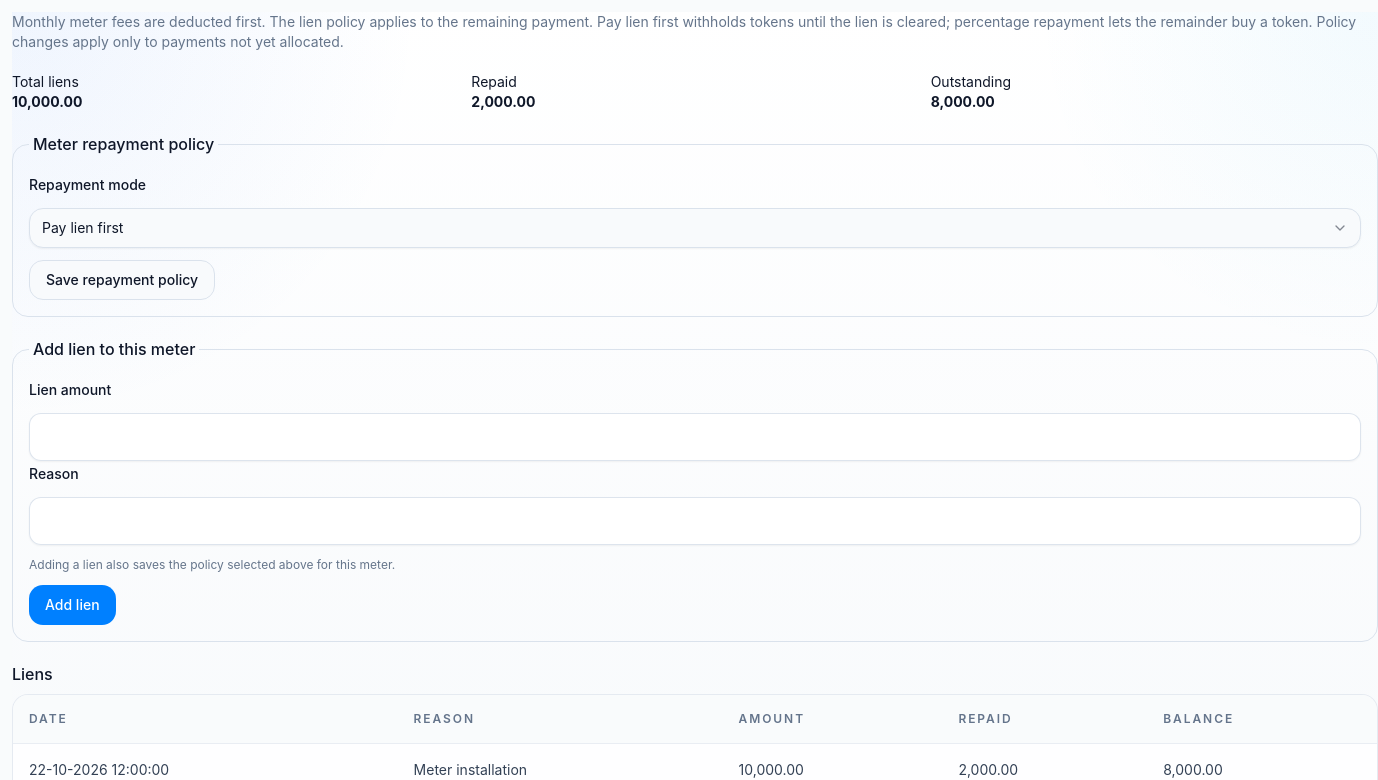
Test case: searches repayment modes and saves a configurable percentage policy without creating another lien
This screenshot has width=1378, height=780.
Click the dropdown named "Repayment mode".
click(83, 228)  # box [29,208,1361,248]
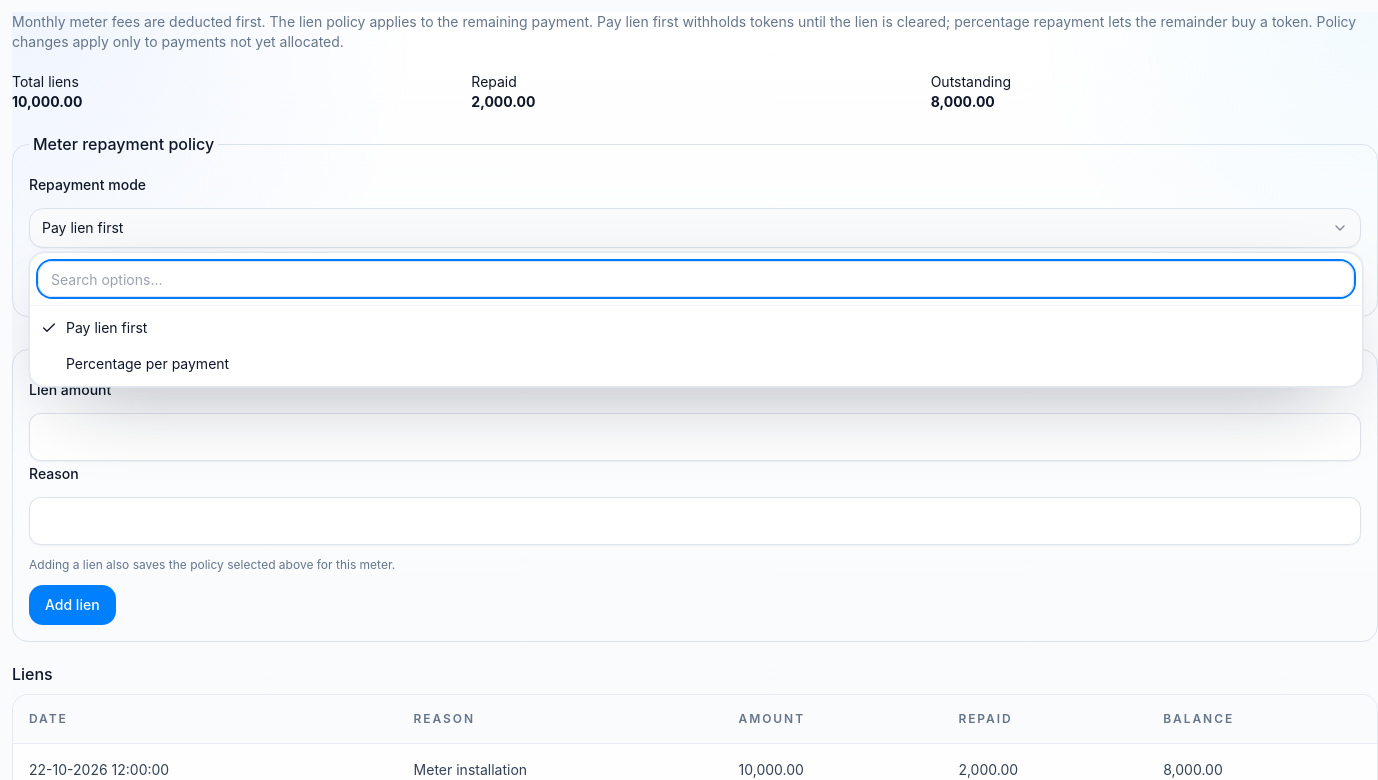
Type "percentage" into the field labelled "Search options".
click(696, 279); type("percentage")  # box [38,261,1354,297]
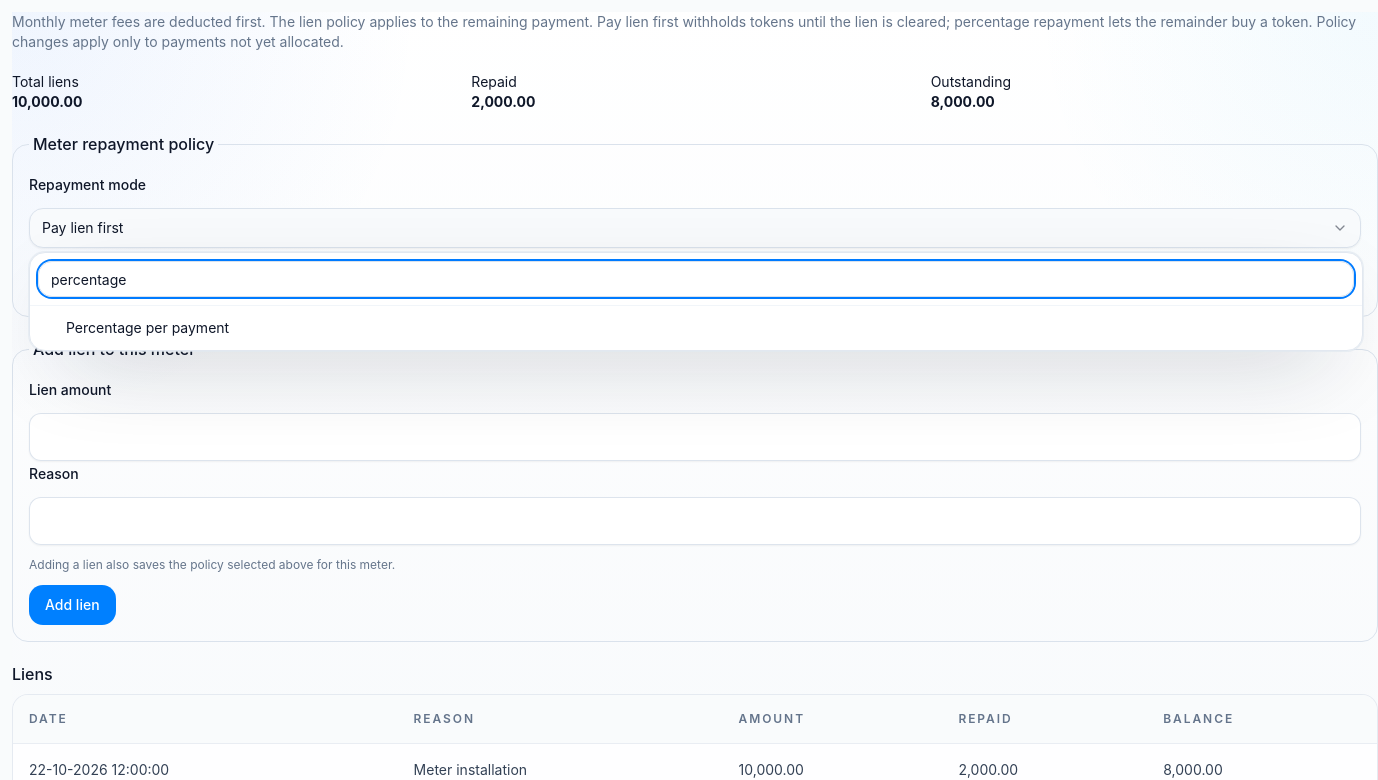
Click the option "Percentage per payment".
click(148, 328)  # box [66,319,229,336]
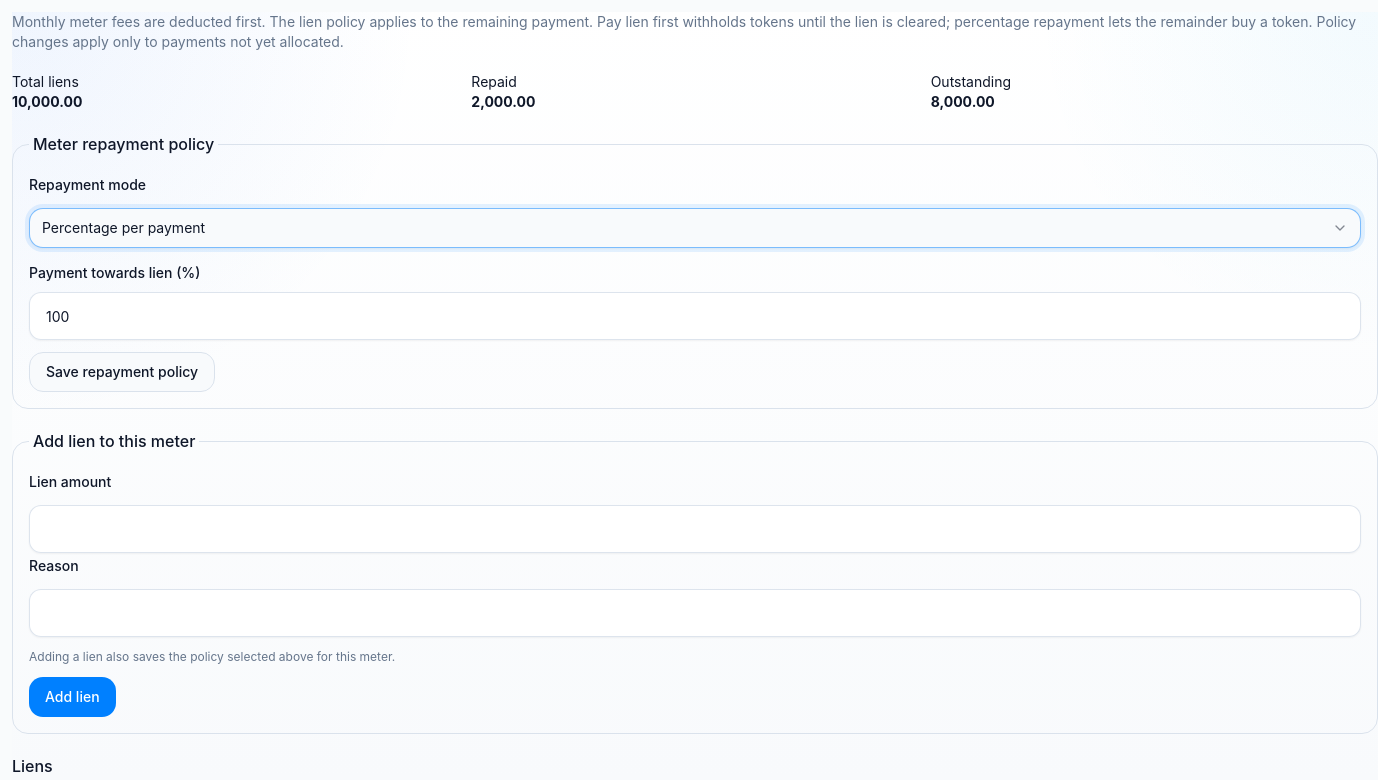
Result: the dropdown named "Repayment mode" reads "Percentage per payment" at [29,208,1361,248]
Replace the text in the number field labelled "Payment towards lien (%)" with "25" at {"x": 695, "y": 316}, box [29,292,1361,340]
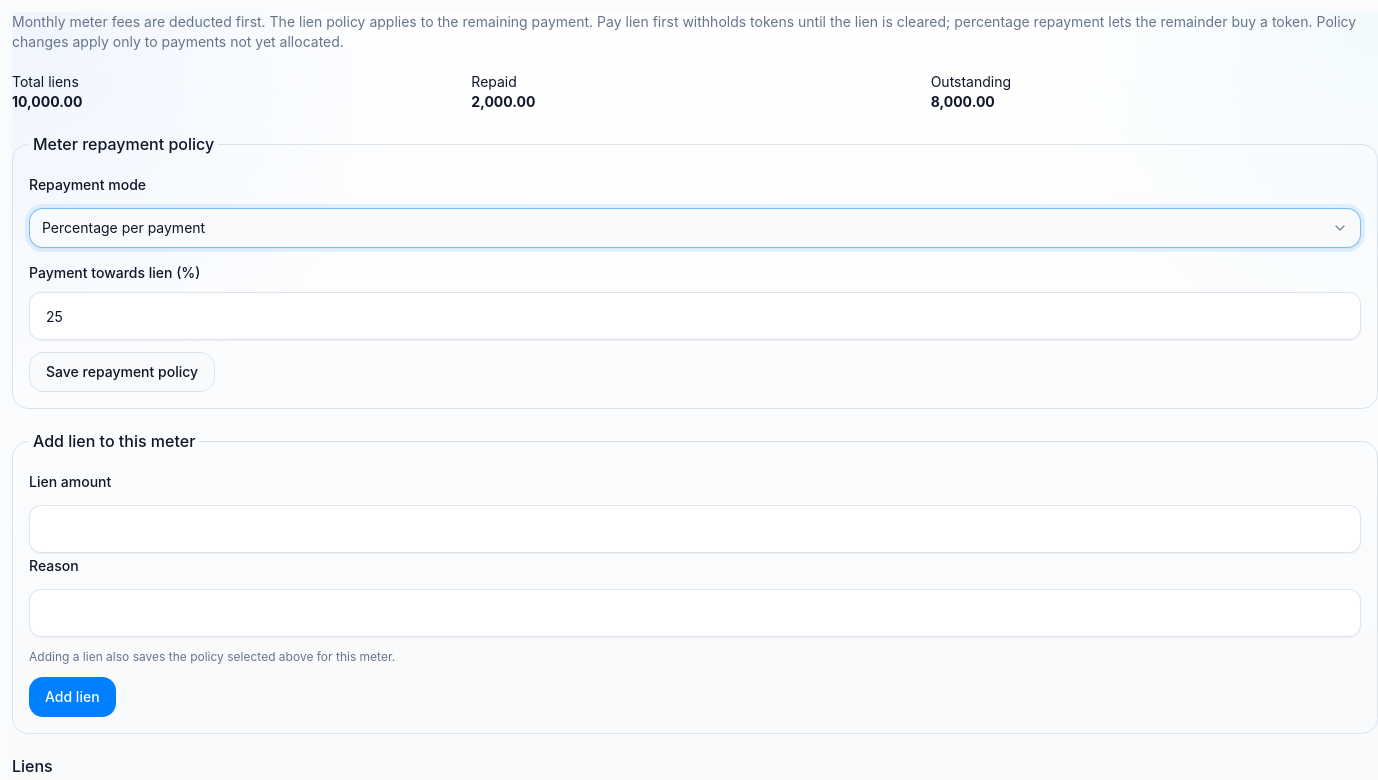
Click the button "Save repayment policy".
click(122, 372)  # box [29,352,215,392]
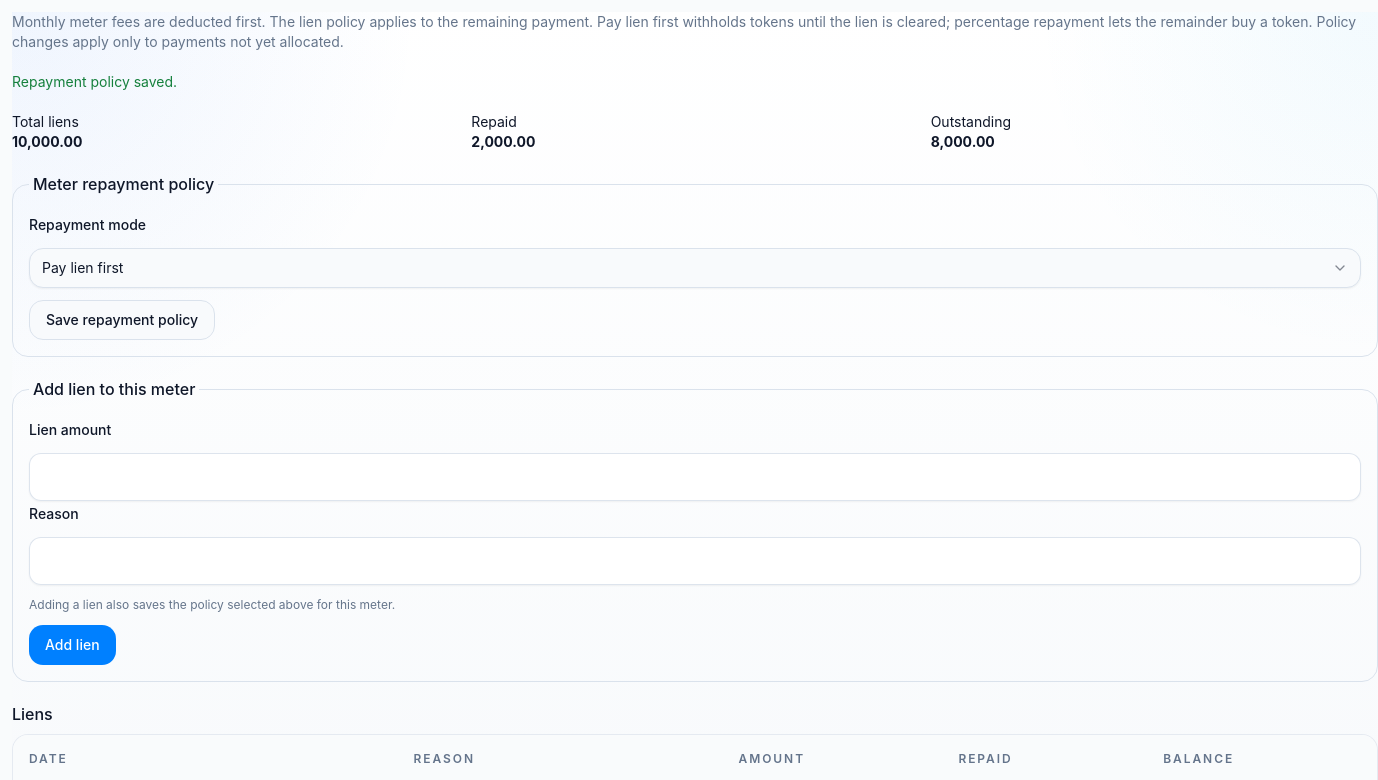
Result: the text "Repayment policy saved." is shown at [12,73,177,90]
